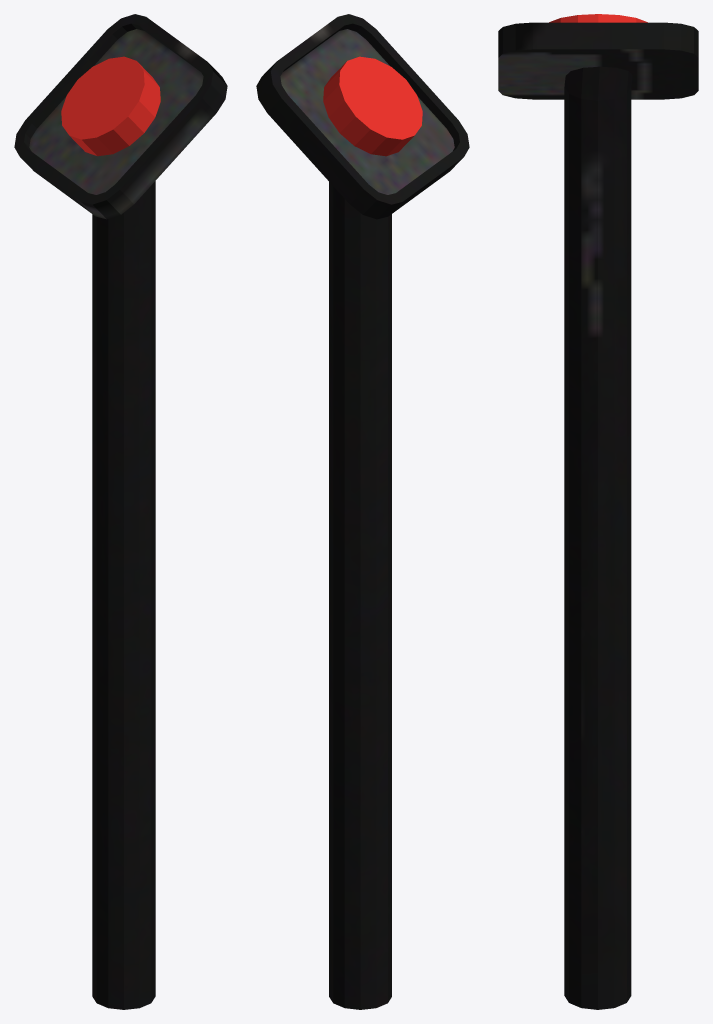
File: button_on_pole.glb
3 renders of one model, left to right at view 1: azimuth 30°, elevation 25°; view 2: azimuth 150°, elevation 25°; view 3: azimuth 270°, elevation 25°, orthographic. The views are drawn at different scales.
Parts seen in each view (by area): view 1: Casing.001, Button.001; view 2: Casing.001, Button.001; view 3: Casing.001, Button.001.
Boxes of the visible parts, x1,y1,x2,y2 form: Casing.001: (14, 14, 227, 1009); Button.001: (61, 56, 160, 156); Casing.001: (256, 14, 469, 1009); Button.001: (323, 56, 422, 156); Casing.001: (498, 22, 698, 1009); Button.001: (549, 14, 647, 22).
Size of the model in its own units: 0.2579 by 1.65 by 0.3.
2 materials, 1 textured.
